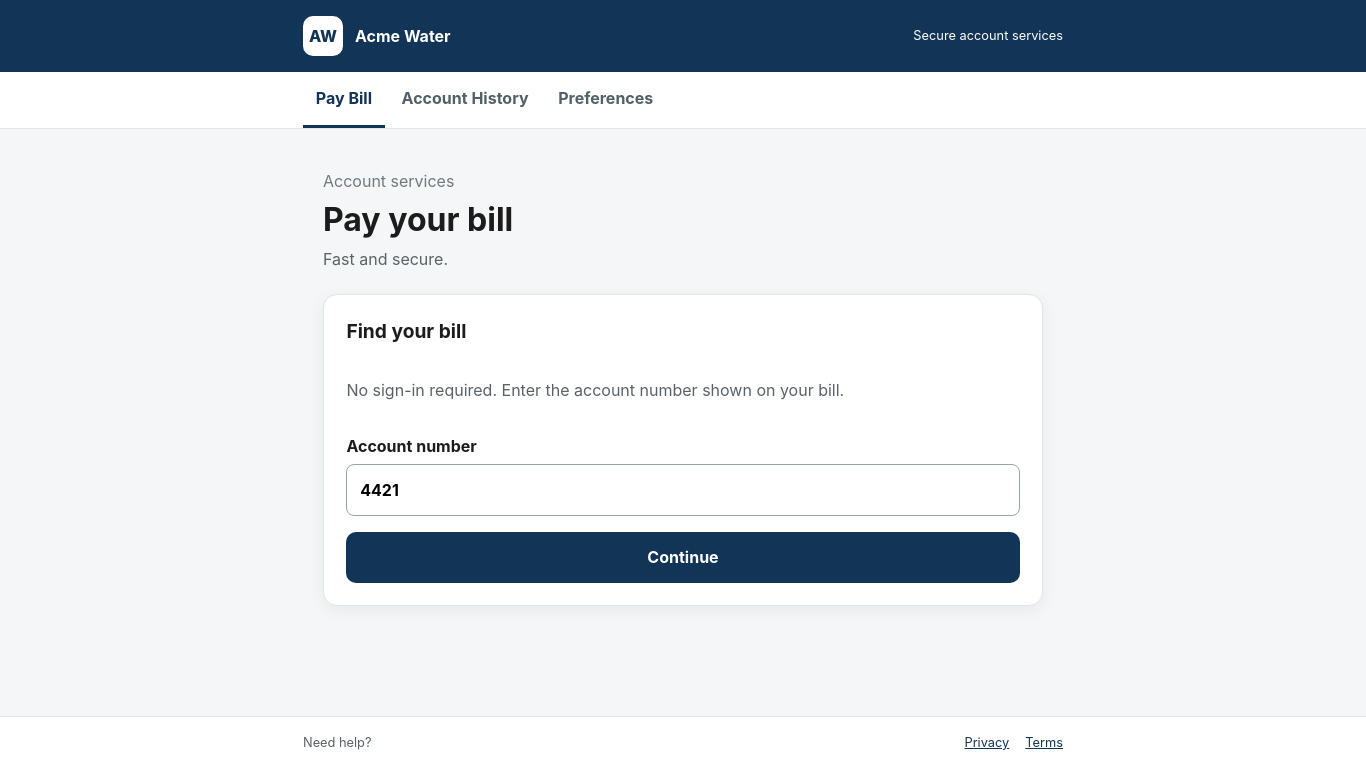
payment assistant surface › answers a follow-up question in the conversation
The image size is (1366, 768).
Click the button with test id "lookup-submit" at (683, 557), box [346,532,1020,583]
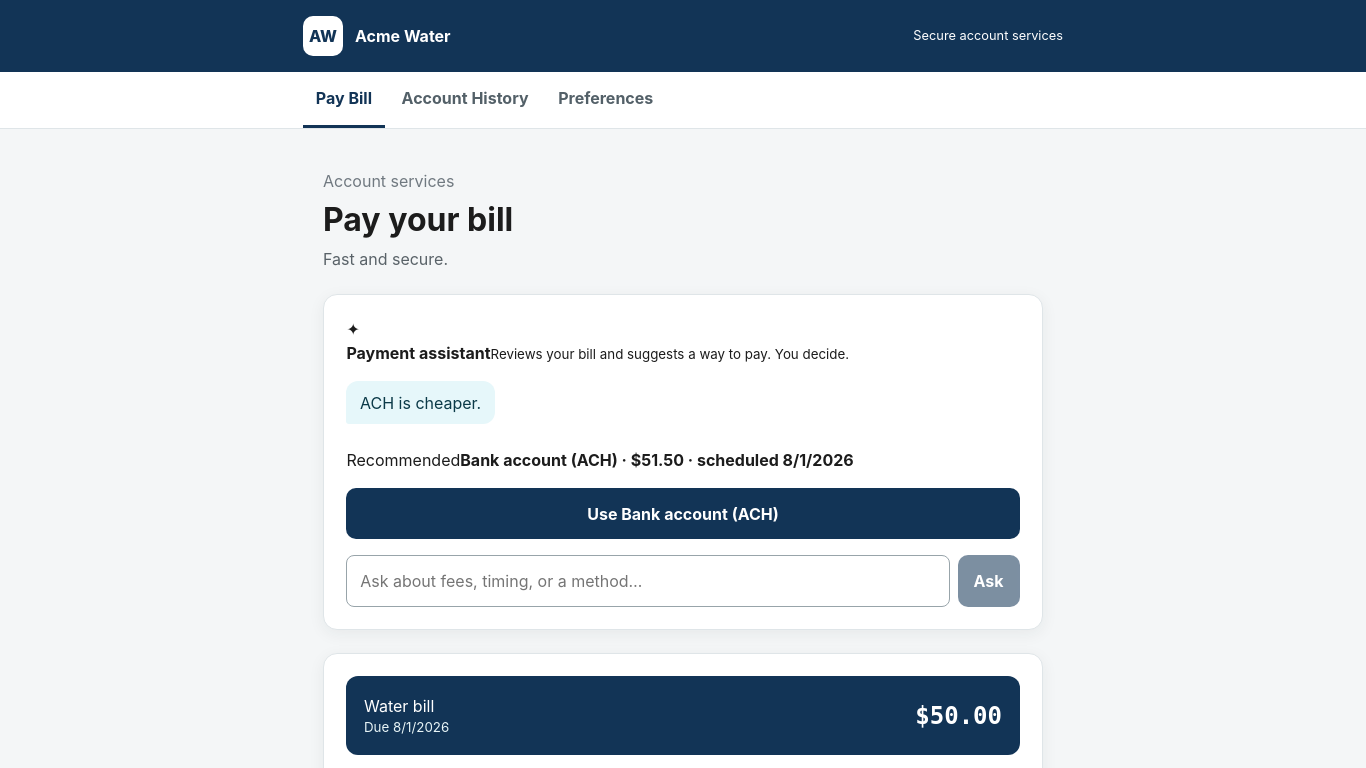
Check: the element with test id "assistant-transcript" is shown, box [346,381,495,424]
Type "what is the fee?" into the field with test id "assistant-input" at (648, 581), box [346,555,950,607]
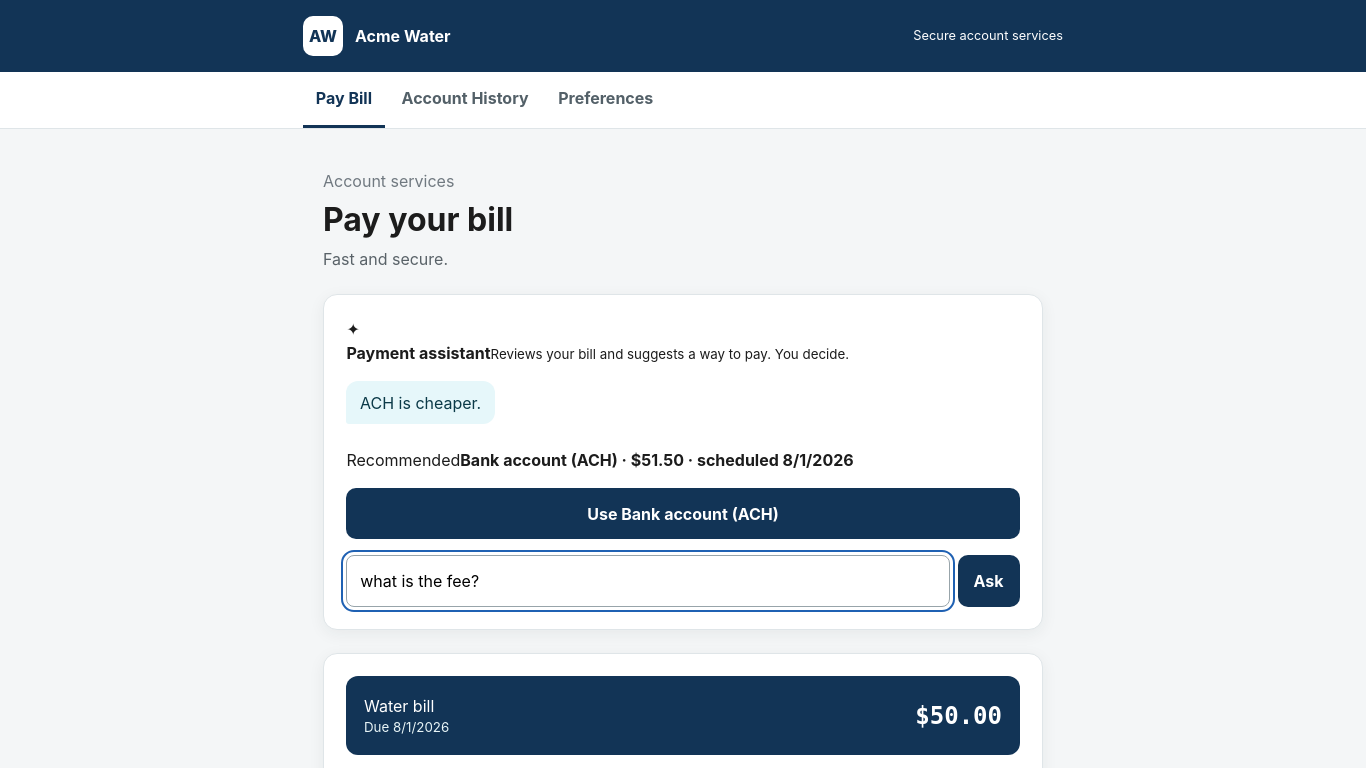
Click the button with test id "assistant-send" at (989, 581), box [958,555,1020,607]
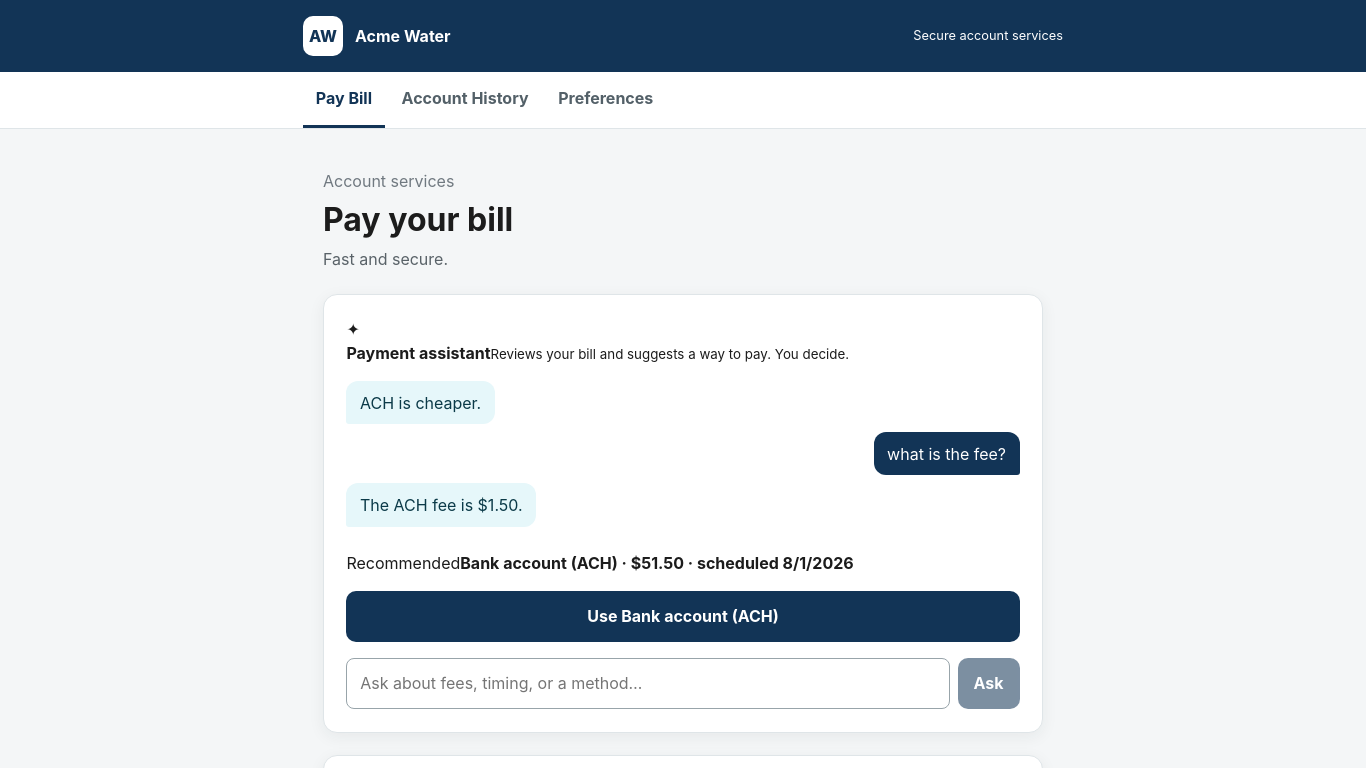
Check: the text "The ACH fee is $1.50." is shown, box [346,483,536,526]
